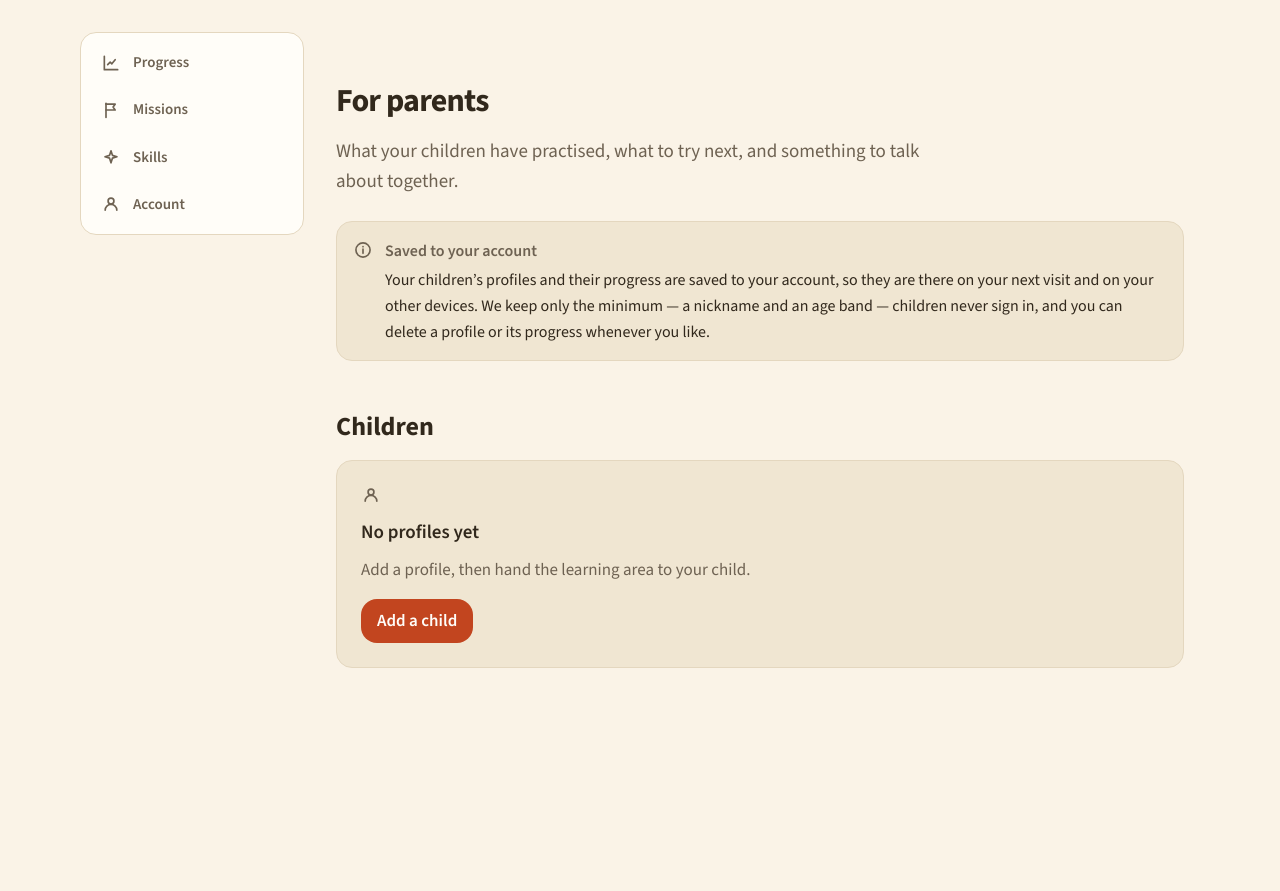
Scenario: creating profiles › adds a profile
The width and height of the screenshot is (1280, 891).
Click the button "Add a child" at (417, 621), box x1=361 y1=599 x2=473 y2=643
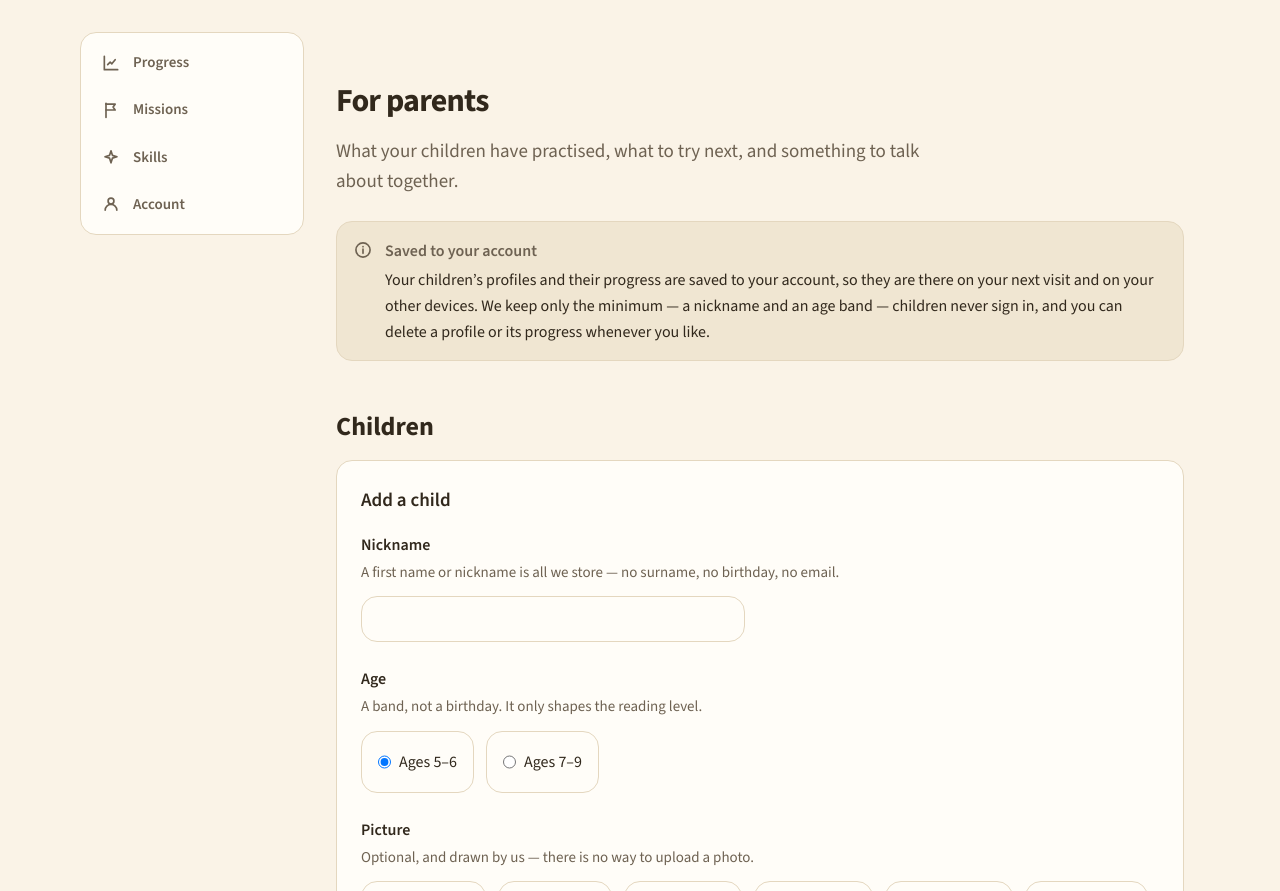
Type "Ada" into the field labelled "Nickname" at (553, 619), box x1=361 y1=596 x2=745 y2=642
(page scrolled)
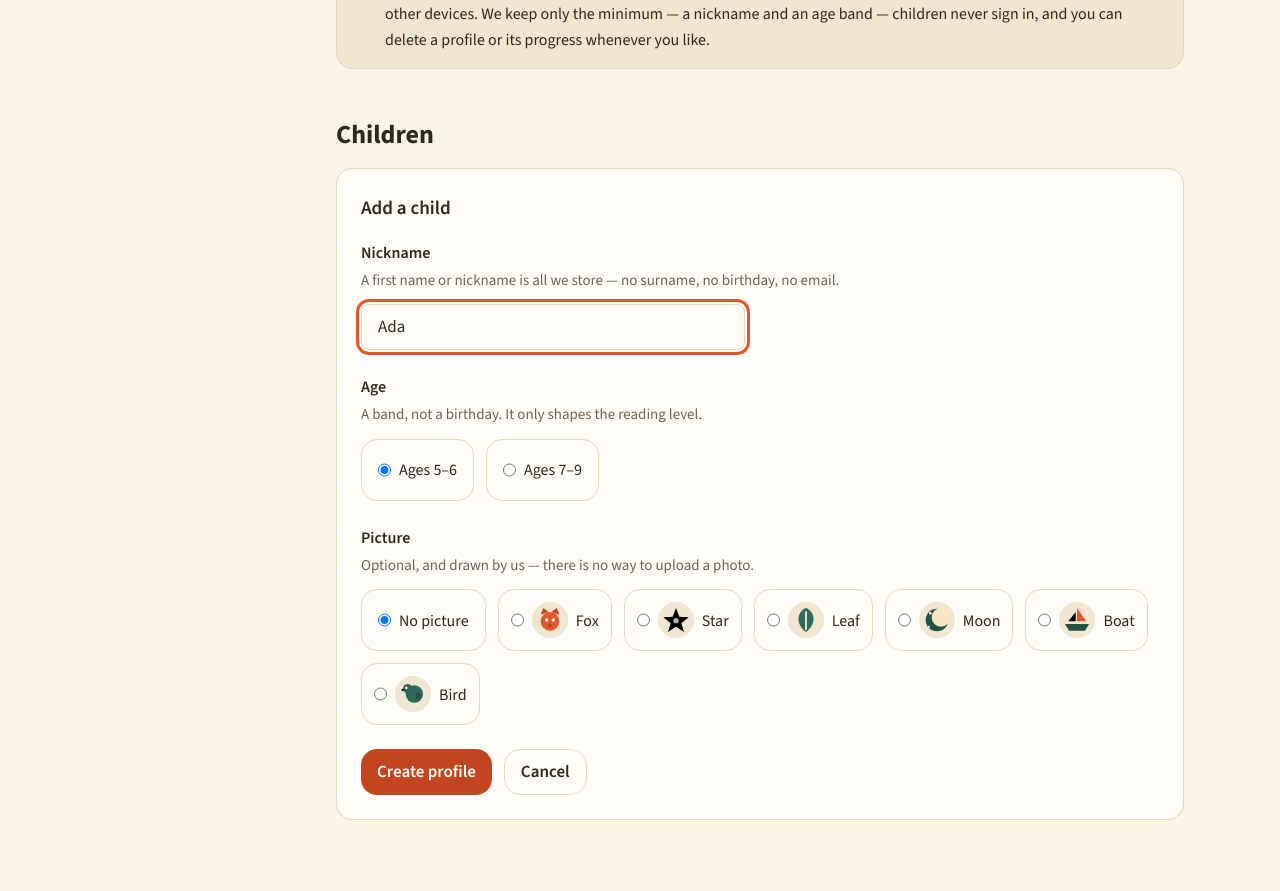
Click the button "Create profile" at (426, 772), box x1=361 y1=749 x2=492 y2=795
(page scrolled)
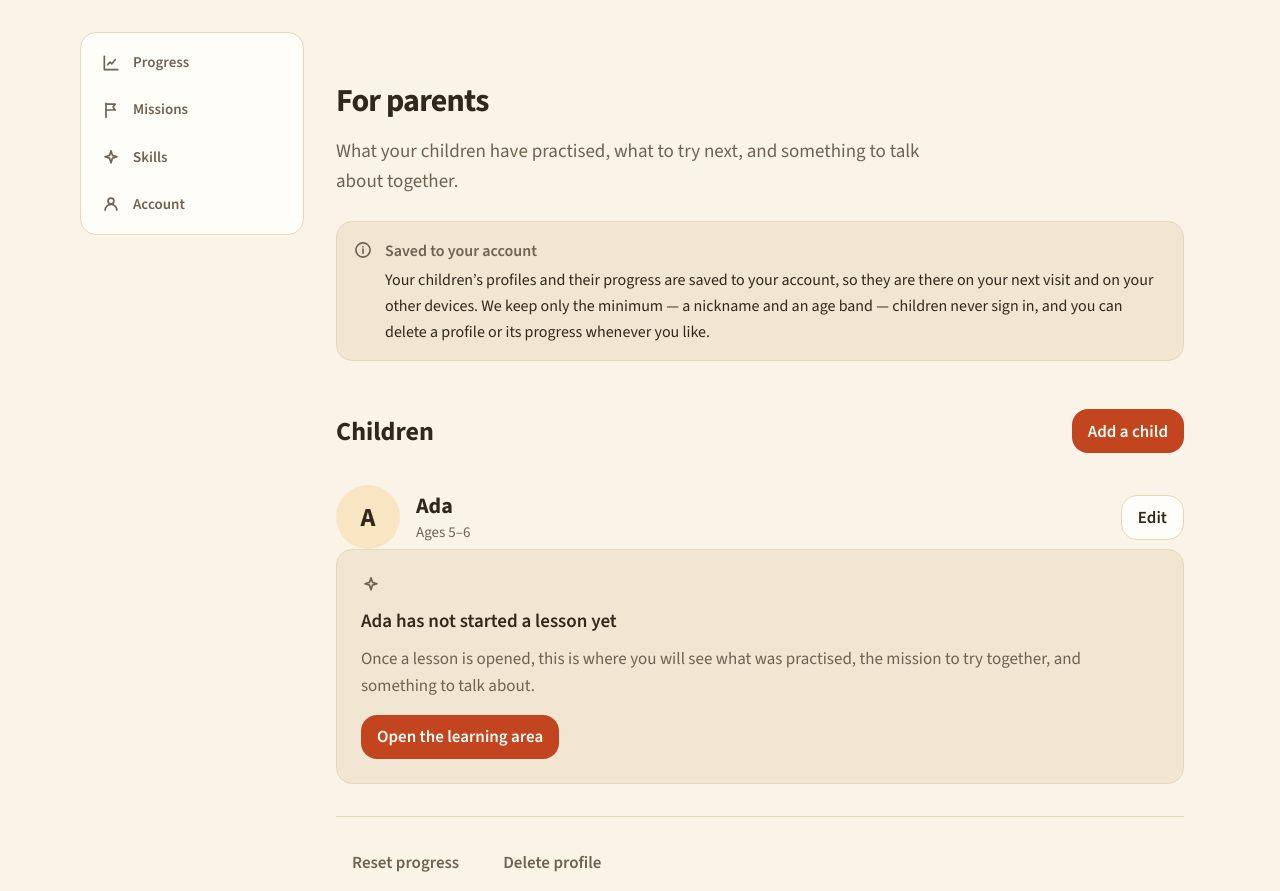
Expected: the heading "Ada" is shown, x1=416 y1=491 x2=453 y2=520
